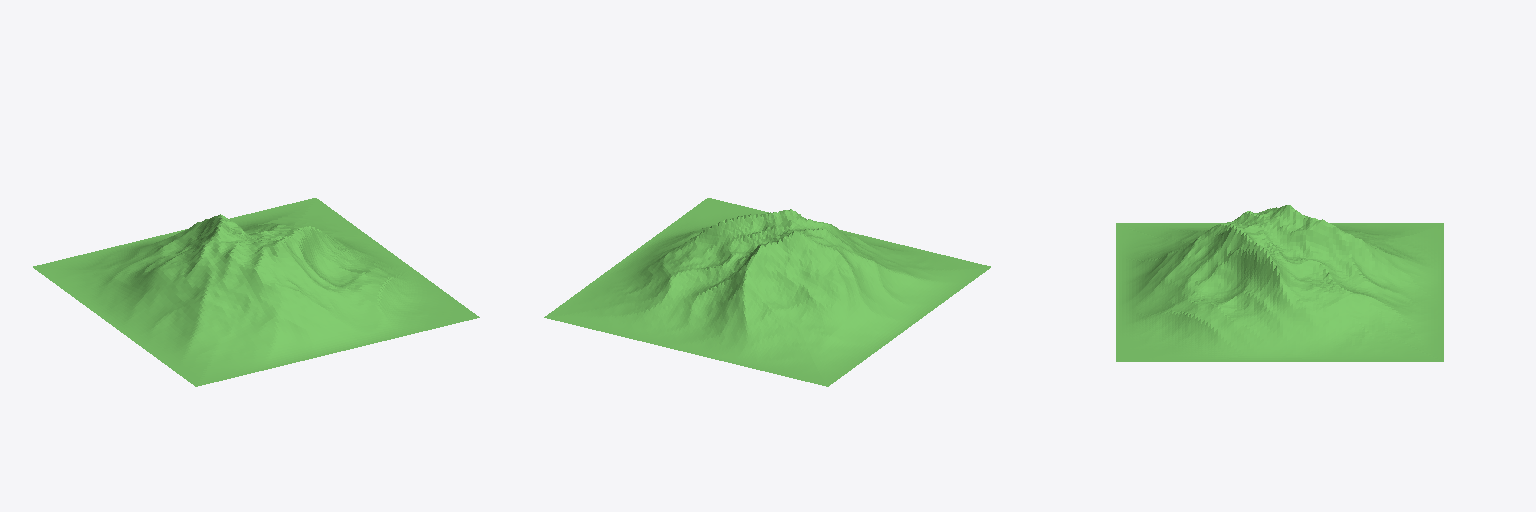
File: tes.obj
3 views of the same model, side by side, from view 1: azimuth 30°, elevation 25°; view 2: azimuth 150°, elevation 25°; view 3: azimuth 270°, elevation 25° (orthographic).
Visible parts, largest first — view 1: Landscape; view 2: Landscape; view 3: Landscape.
Boxes of the visible parts, x1,y1,x2,y2 form: Landscape: [33, 198, 479, 386]; Landscape: [544, 198, 990, 386]; Landscape: [1116, 205, 1443, 361].
Size of the model in its own units: 600 by 146 by 600.